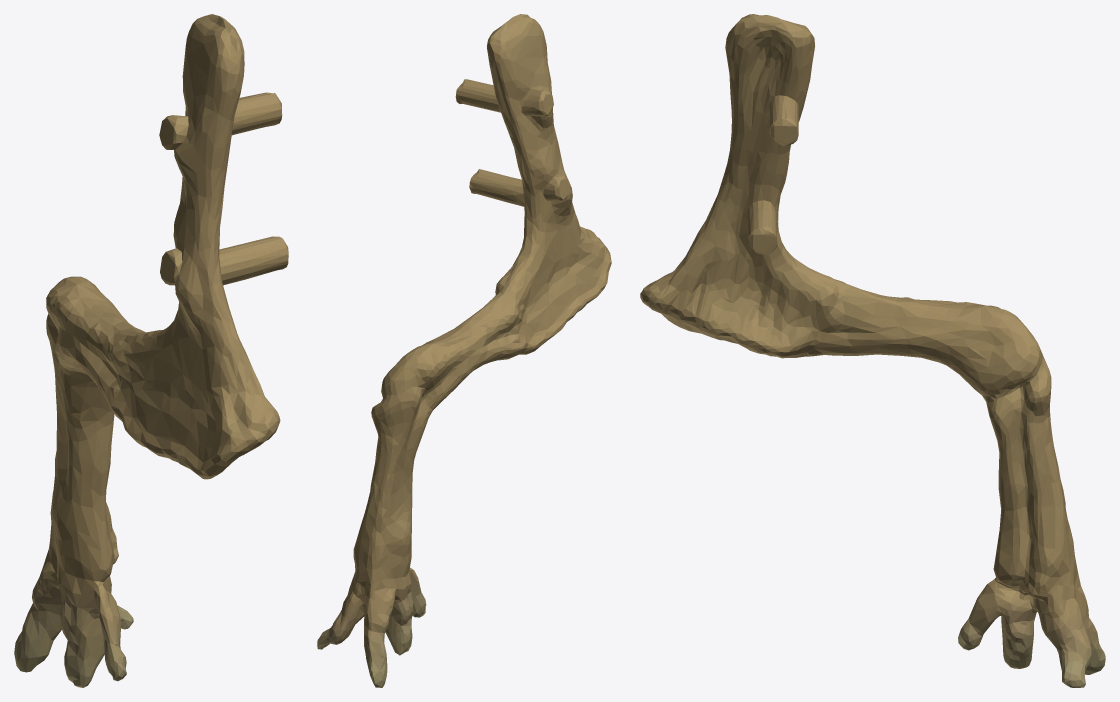
Rendered from bone9.glb.
3 views of the same model, side by side, from view 1: azimuth 30°, elevation 25°; view 2: azimuth 150°, elevation 25°; view 3: azimuth 270°, elevation 25° (orthographic). The views are drawn at different scales.
Parts seen in each view (by area): view 1: tripo_node_3ab0879c-0c3d-4b03-9701-ef5c66812fc4; view 2: tripo_node_3ab0879c-0c3d-4b03-9701-ef5c66812fc4; view 3: tripo_node_3ab0879c-0c3d-4b03-9701-ef5c66812fc4.
Part boxes in pixels (bbox=[...]): tripo_node_3ab0879c-0c3d-4b03-9701-ef5c66812fc4: bbox=[14, 14, 288, 687]; tripo_node_3ab0879c-0c3d-4b03-9701-ef5c66812fc4: bbox=[317, 14, 611, 687]; tripo_node_3ab0879c-0c3d-4b03-9701-ef5c66812fc4: bbox=[640, 14, 1105, 687].
Bounding box in the file's own units: 0.2117 × 0.9806 × 0.624.
1 material, 1 textured.
